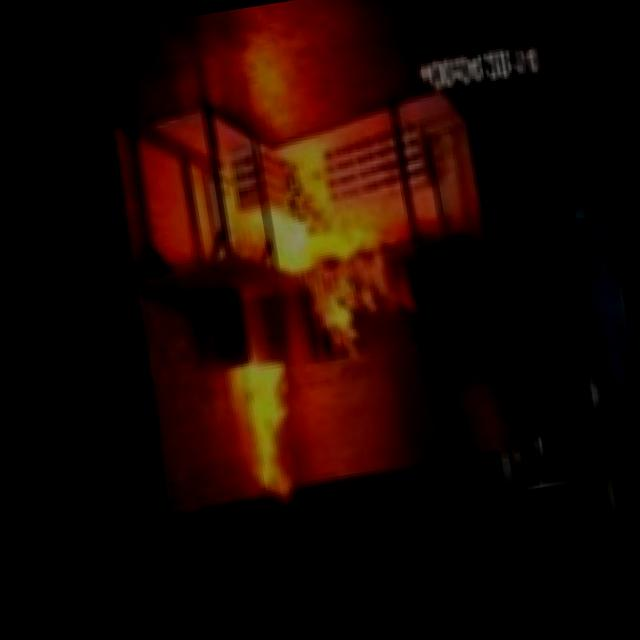fire: (148, 105, 442, 542)
